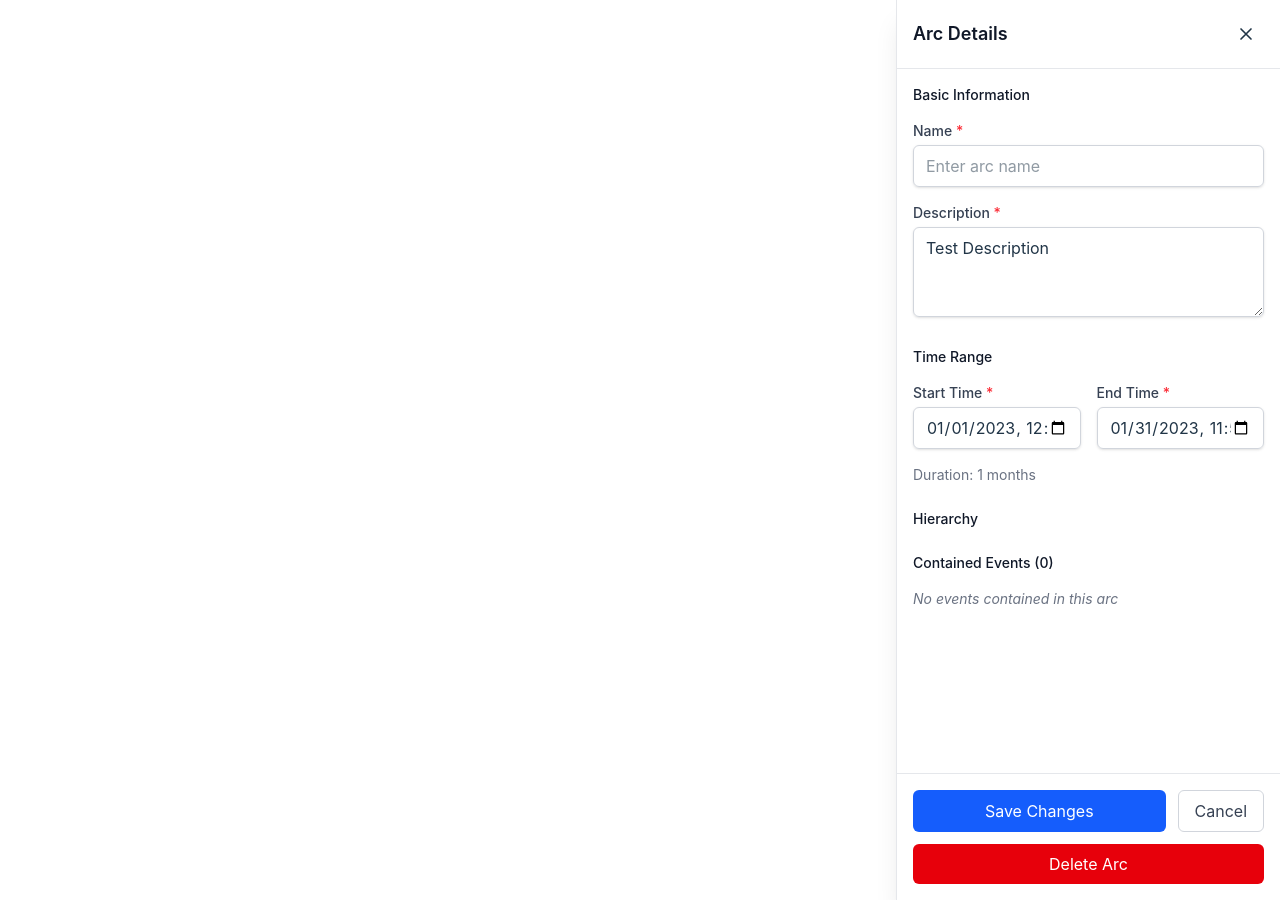
Test: ArcDetailPanel › Validation › clears field error when user starts typing
Note: Trigger validation error
Click the button "Save Changes".
click(1039, 811)  # box 913,790 -> 1166,832
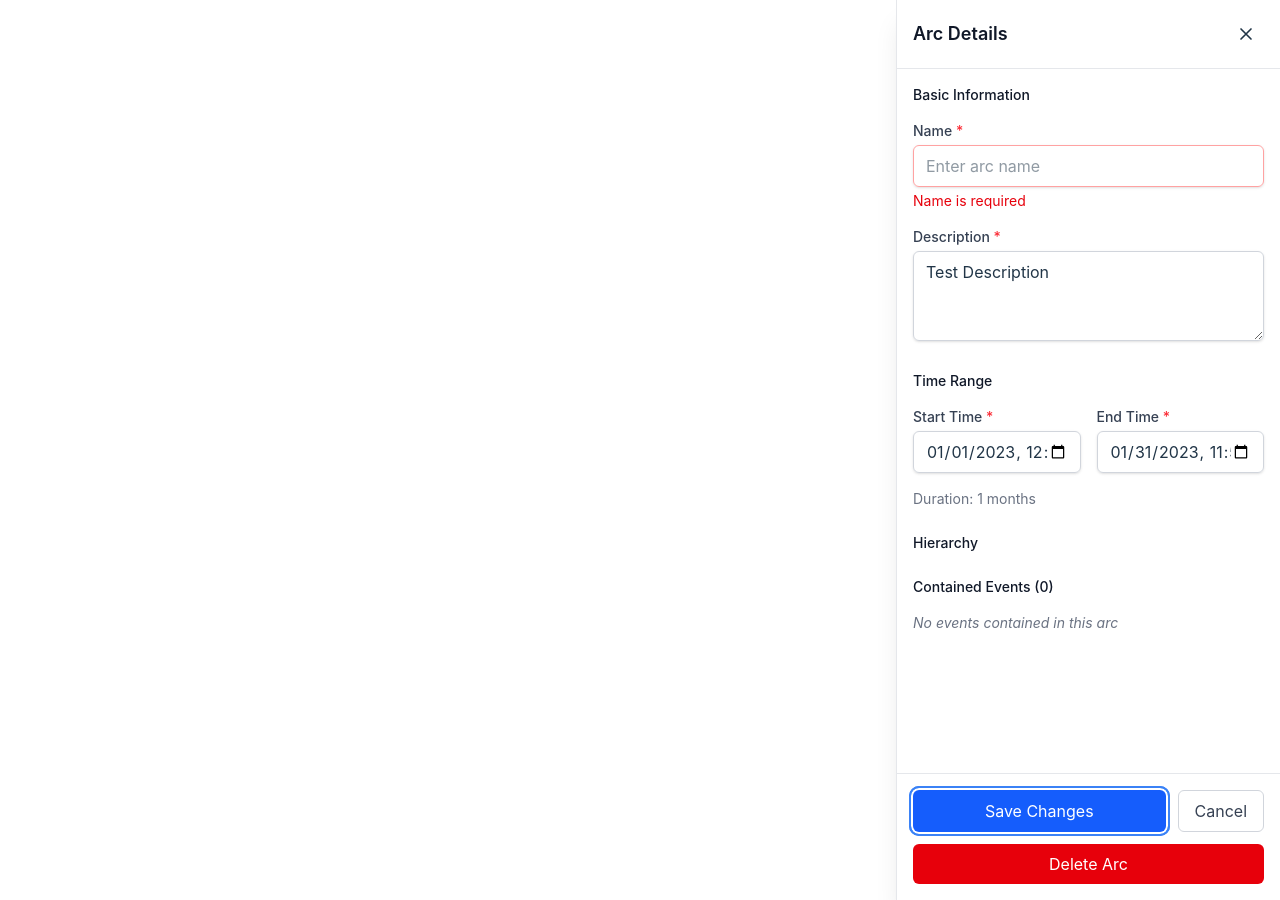
Result: the text "Name is required" is shown at 913,192 -> 1026,209
Note: Start typing to clear error
Type "New Name" into the field labelled "Name *".
click(1088, 166); type("New Name")  # box 913,145 -> 1264,187
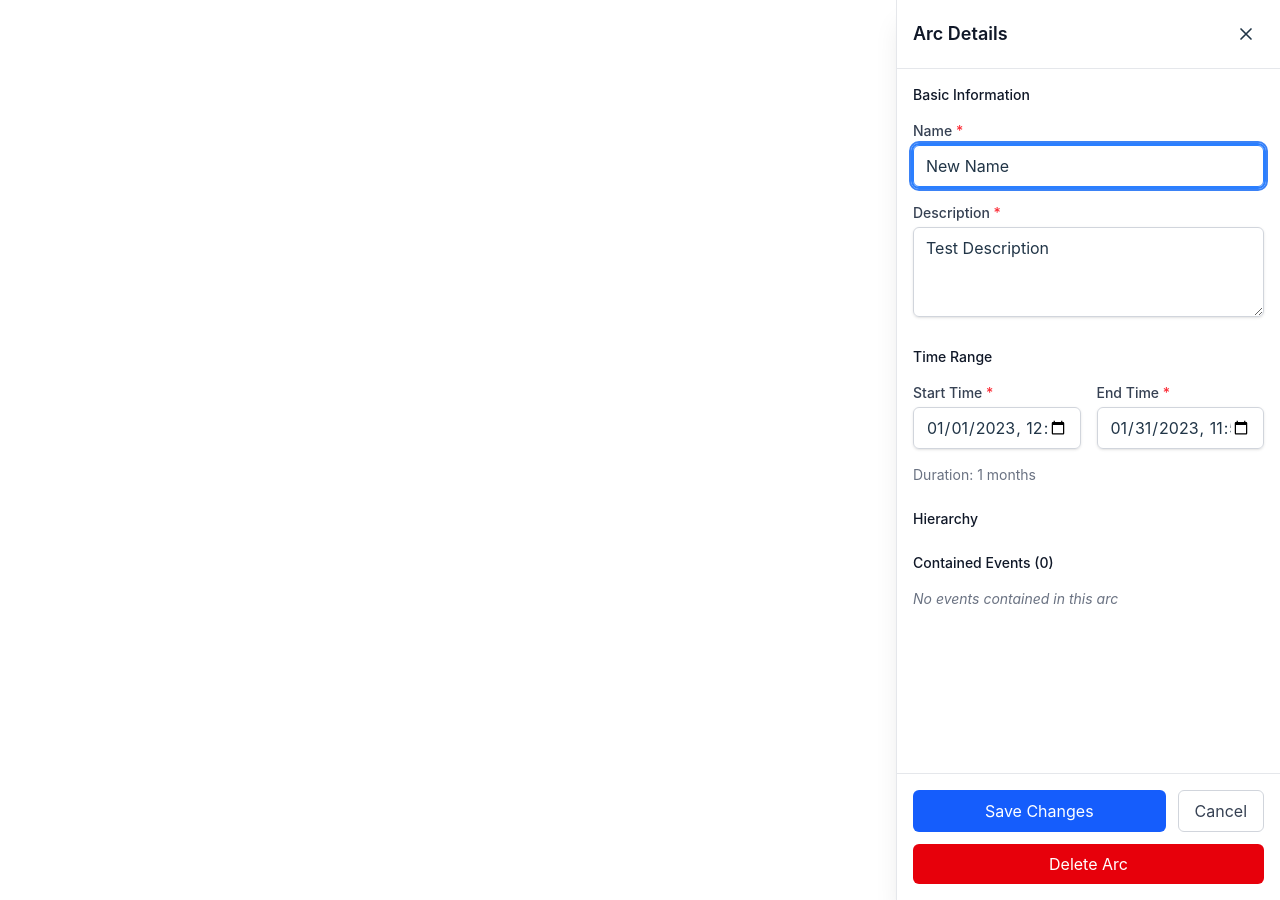
Result: the text "Name is required" is gone
